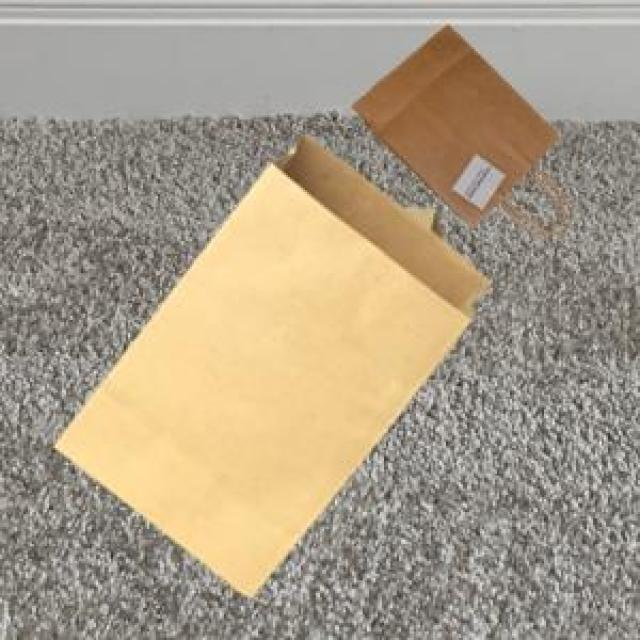paper: (51, 132, 484, 593), (350, 21, 555, 224), (401, 205, 436, 235)
